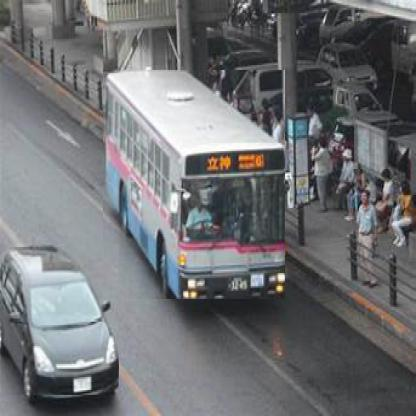bus: (104, 71, 287, 302)
car: (2, 245, 121, 398)
